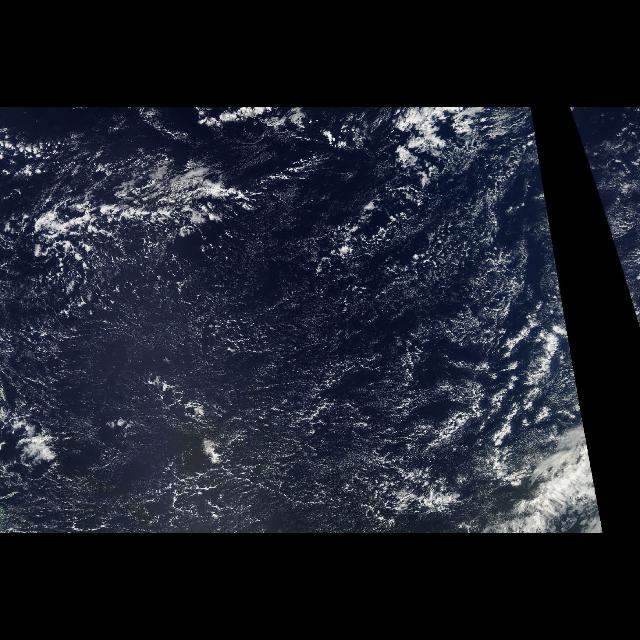Gravel: (2, 243, 554, 533)
Sugar: (22, 271, 428, 533)
